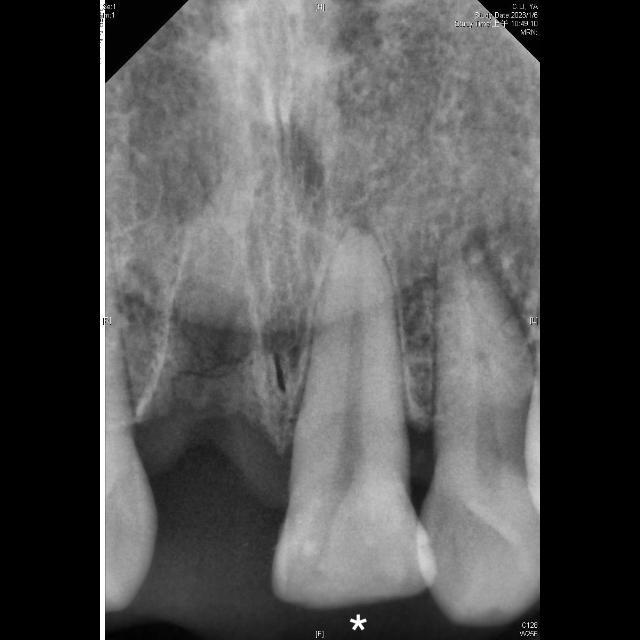test-segment: (270, 223, 428, 610)
